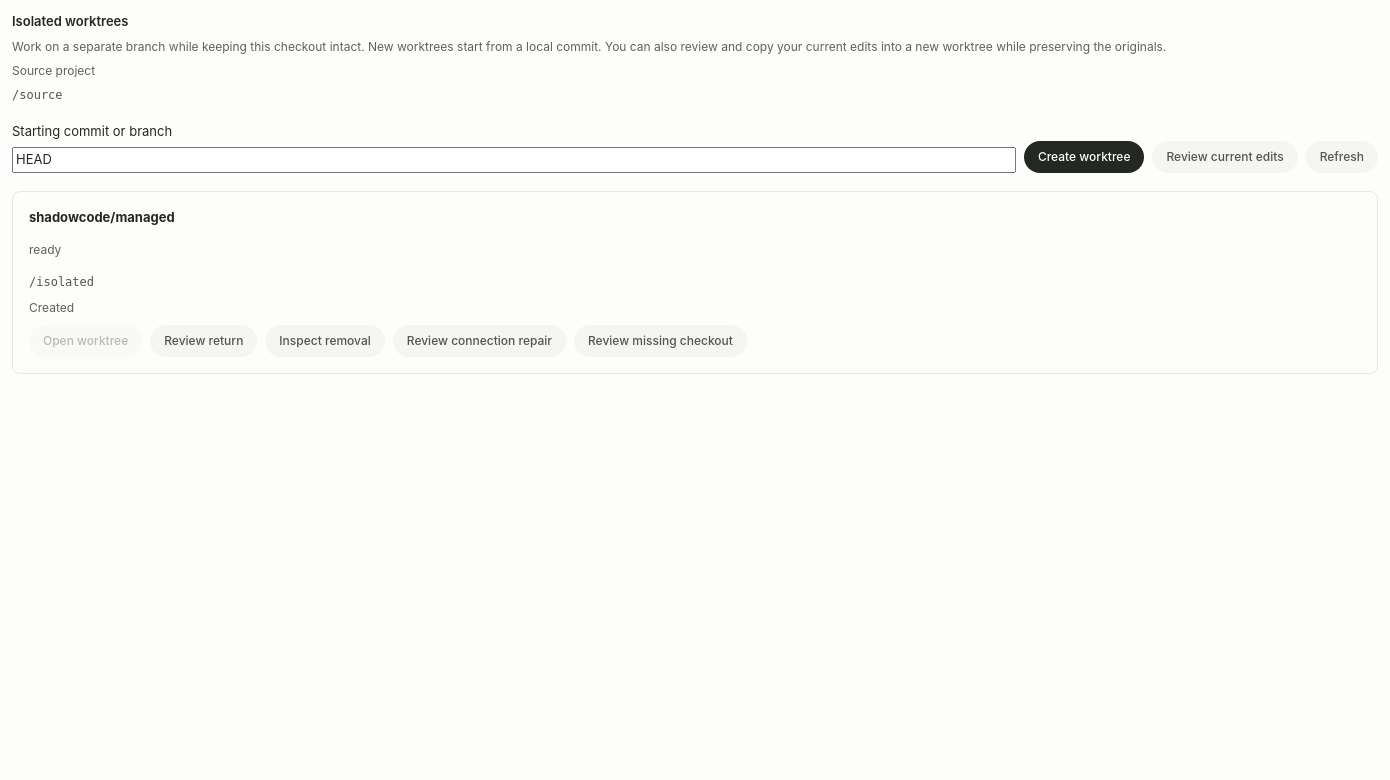
Test: shows the incoming diff and reports merge conflicts as needing attention
Click the button "Review return" at (204, 341), box [150,325,257,357]
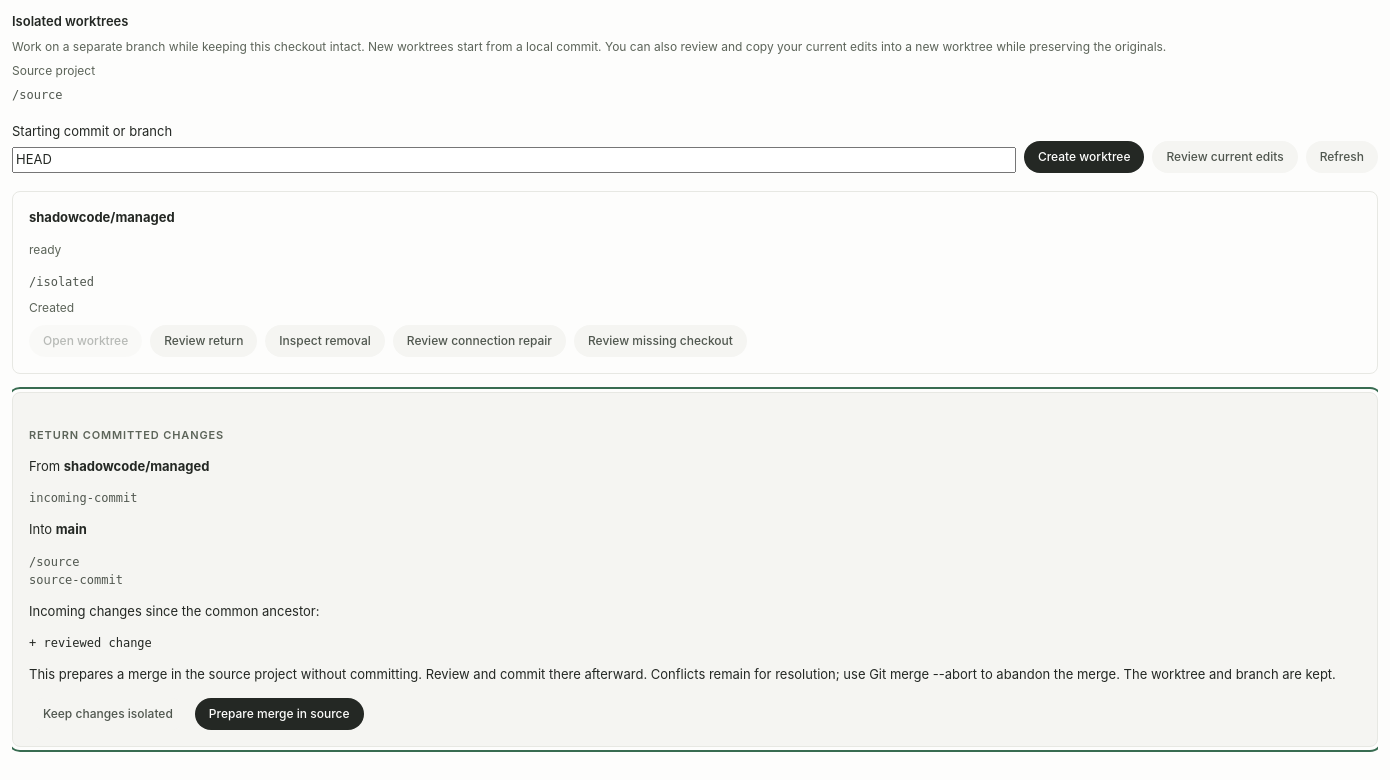
Check: the text named "Incoming worktree diff" reads "+ reviewed change", box [29,636,152,650]
Click the button "Prepare merge in source" at (279, 714), box [195,698,364,730]
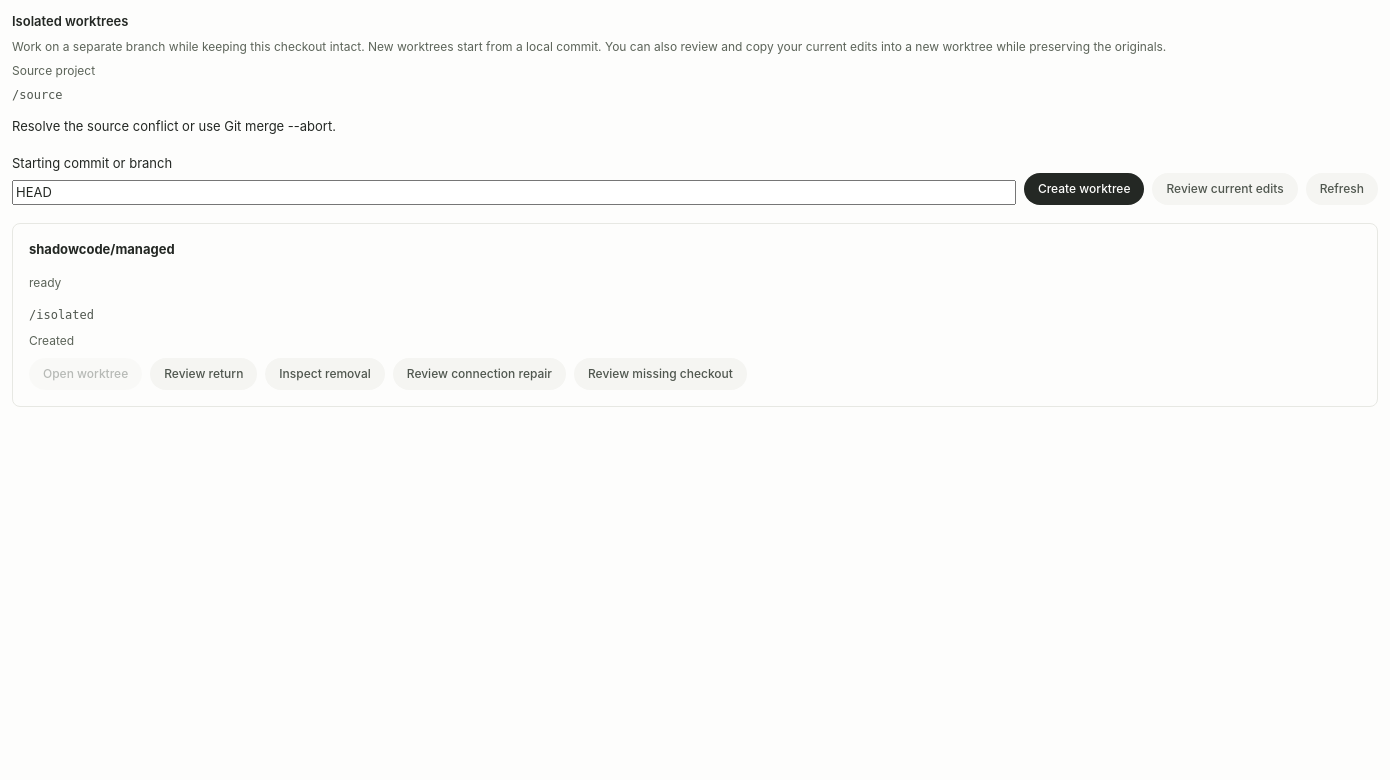
Check: the message "Resolve the source conflict or use Git merge --abort." is shown, box [12,118,336,134]
